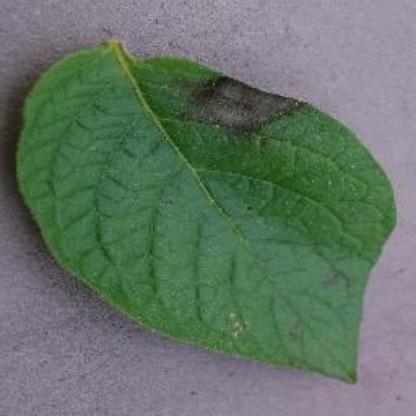Late-Blight: (13, 33, 399, 381)
